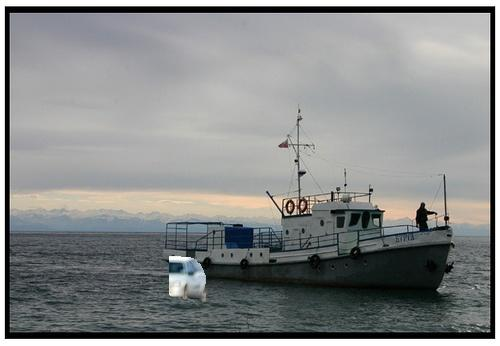tampered: (170, 257, 206, 301)
